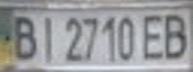0: (115, 11, 139, 63)
1: (100, 12, 118, 64)
2: (60, 12, 84, 64)
7: (78, 12, 100, 64)
B: (157, 9, 193, 62), (6, 11, 39, 62)
E: (139, 10, 169, 62)
I: (33, 11, 60, 63)
